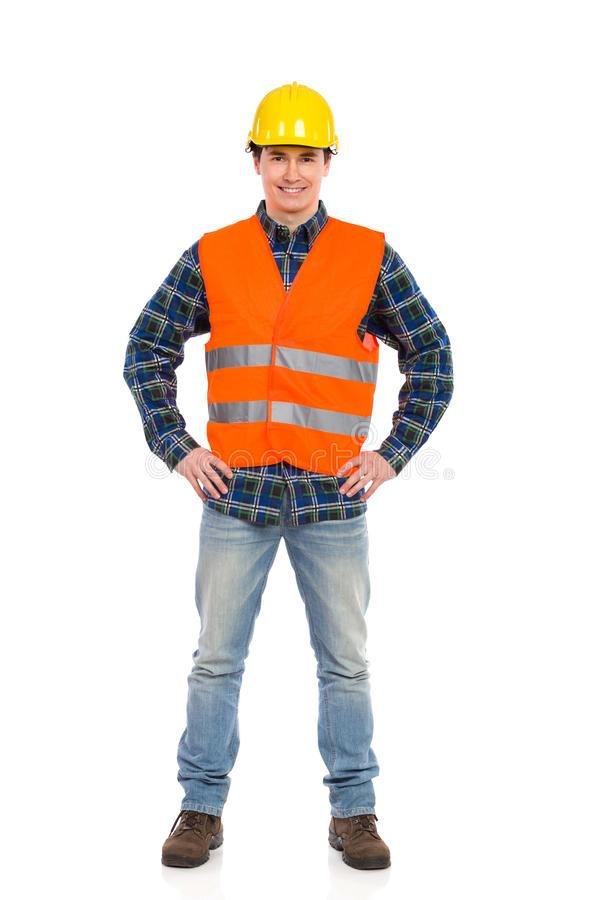helmet: (243, 85, 340, 155)
